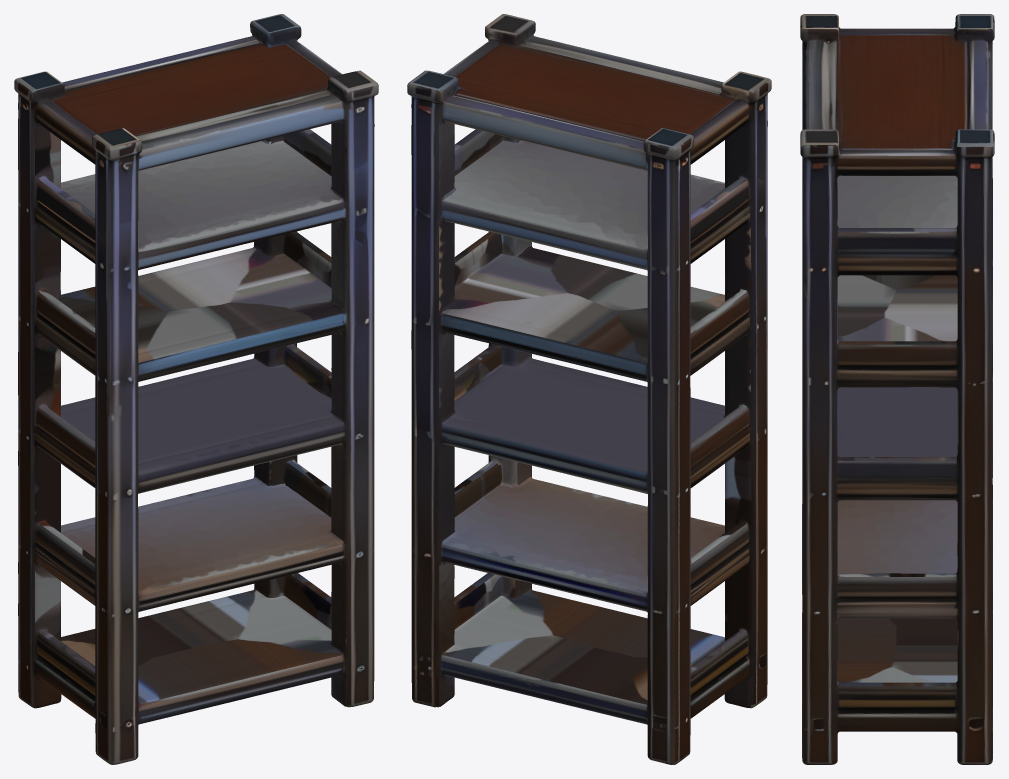
Rendered from Bookshelf.glb.
3 views of the same model, side by side, from view 1: azimuth 30°, elevation 25°; view 2: azimuth 150°, elevation 25°; view 3: azimuth 270°, elevation 25° (orthographic).
Visible parts, largest first — view 1: Bookshelf; view 2: Bookshelf; view 3: Bookshelf.
Part boxes in pixels (left/top/right/bottom): Bookshelf: left=14, top=14, right=378, bottom=764; Bookshelf: left=407, top=14, right=771, bottom=764; Bookshelf: left=800, top=14, right=994, bottom=764.
Bounding box in the file's own units: 0.9117 × 1.99 × 0.565.
1 material, 1 textured.
